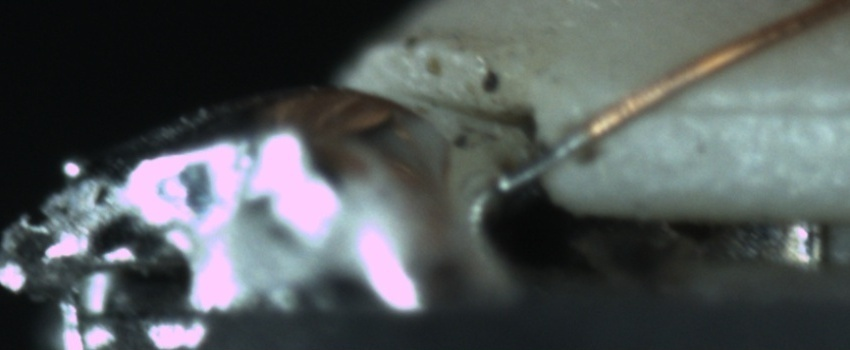DL: (632, 68, 844, 141)
TS: (499, 129, 592, 195)
TTCW: (498, 92, 645, 195)
